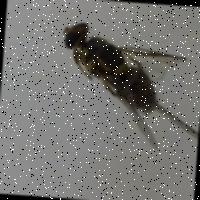Oriental-fruit-fly: (45, 13, 193, 150)
